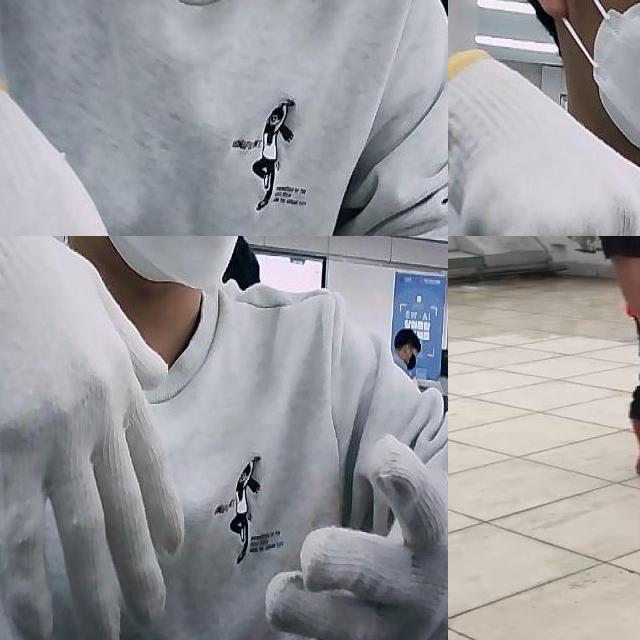BOOTS: (622, 414, 640, 495)
GLOVE: (0, 236, 186, 640), (258, 370, 448, 640), (448, 45, 640, 236), (0, 68, 140, 236)
